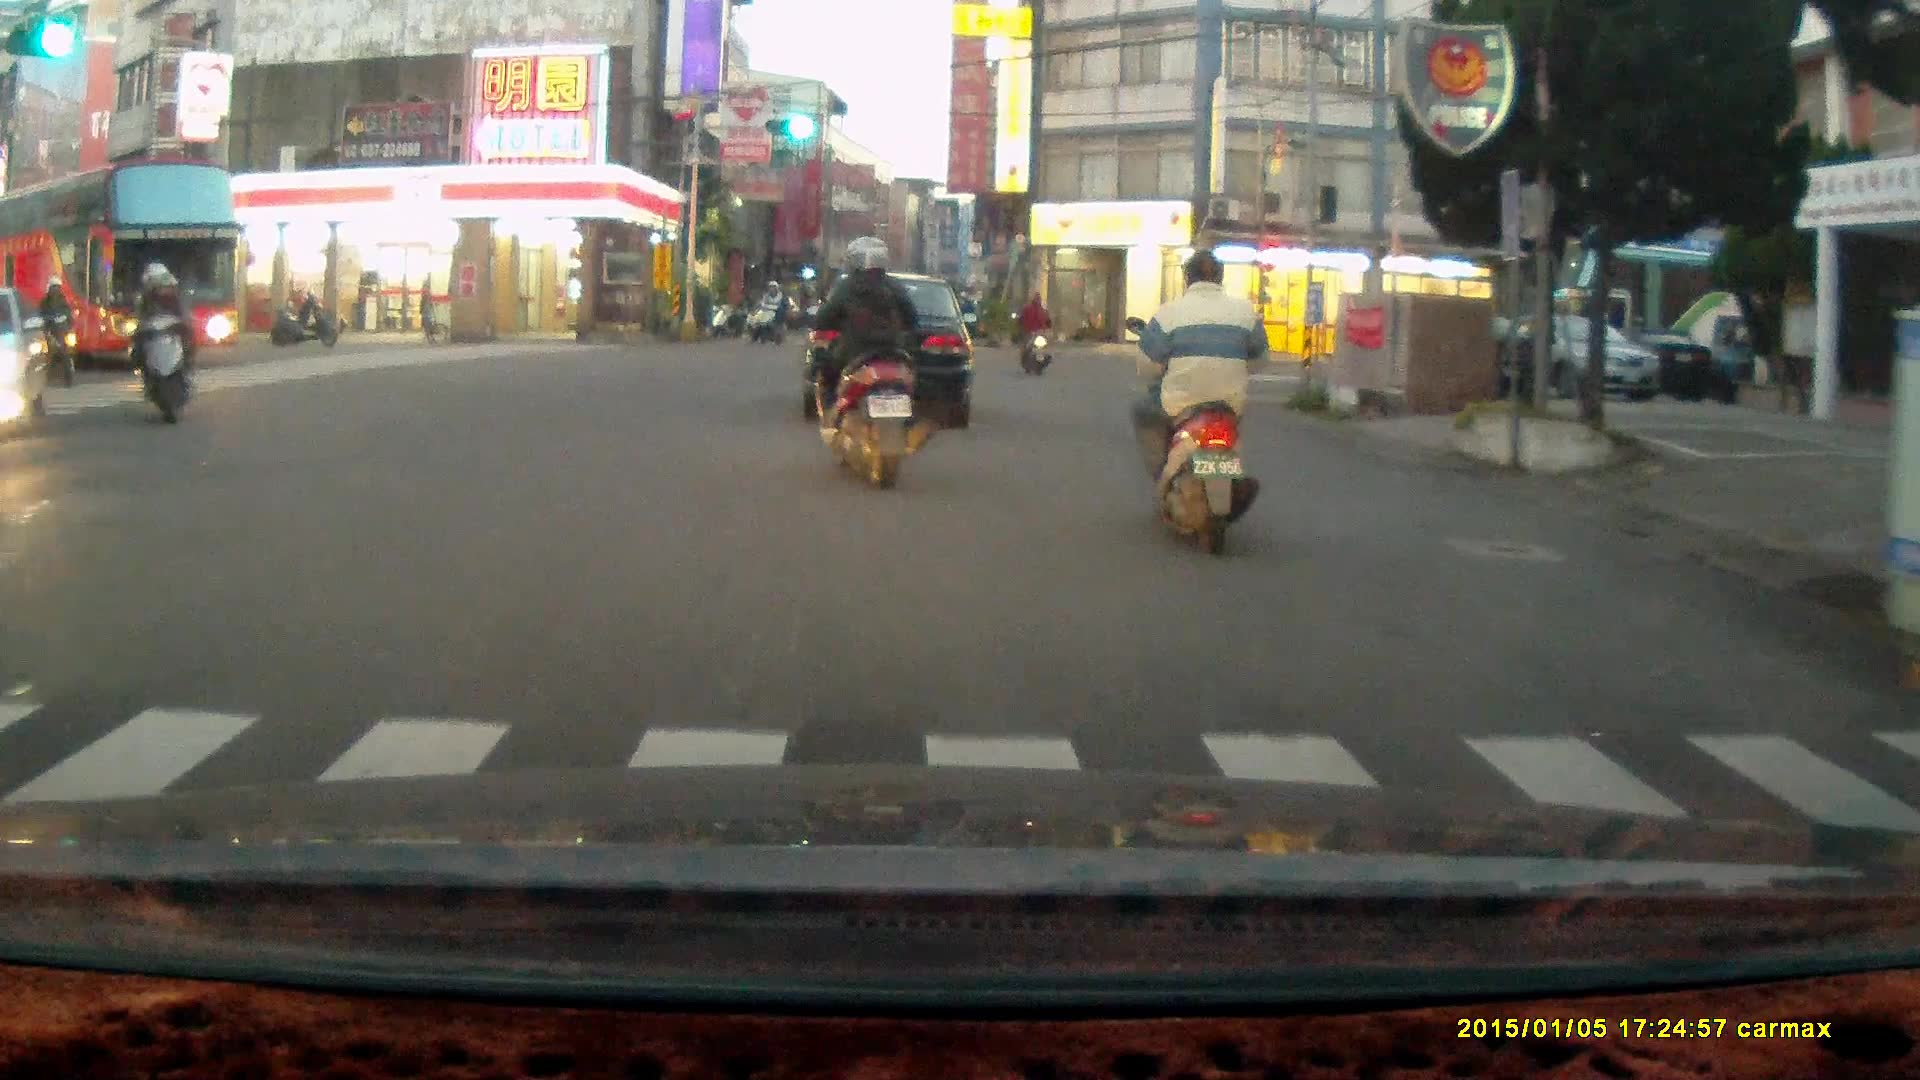rider: (1126, 251, 1266, 558), (801, 231, 939, 497), (124, 260, 197, 427), (33, 277, 80, 385), (1009, 294, 1053, 379), (750, 280, 787, 345)
vehicle: (1, 166, 240, 367), (1455, 312, 1665, 403)
